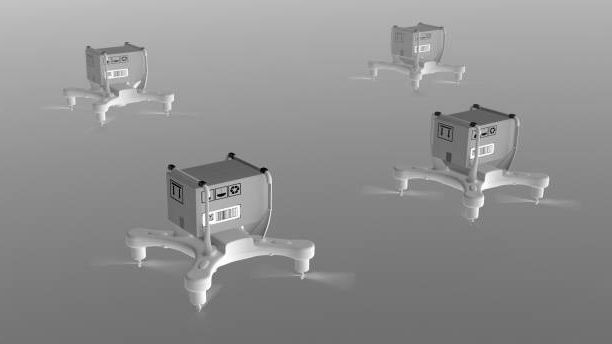Drone: (102, 218, 363, 316), (359, 154, 584, 224), (43, 74, 191, 131), (351, 51, 479, 98)
